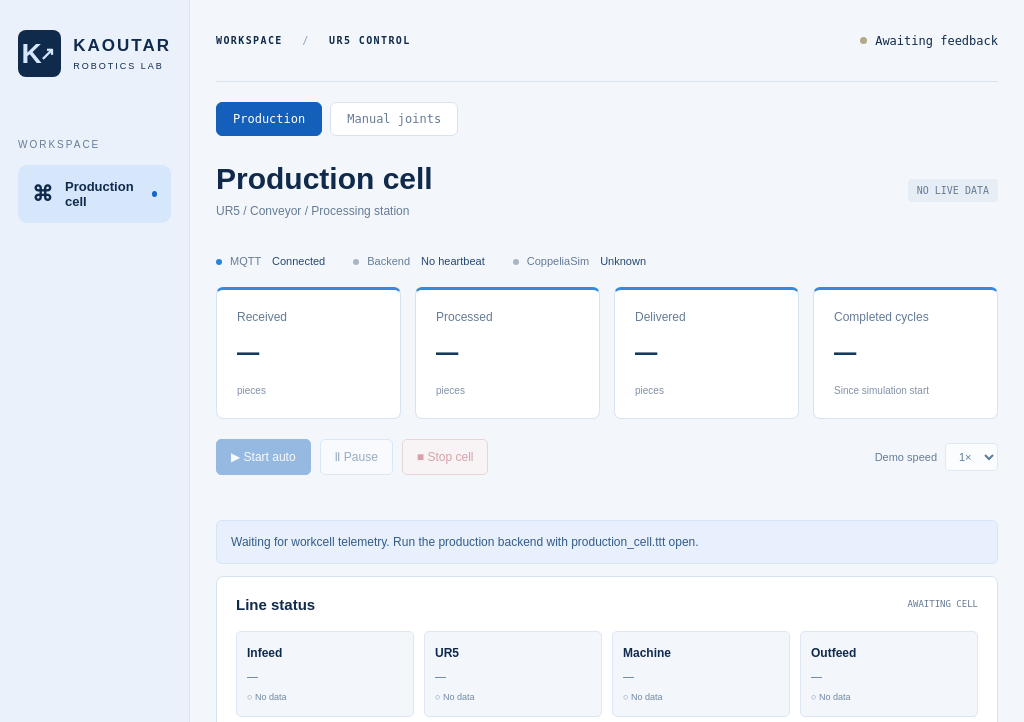
Test: stale feedback and connection loss disable movement and cleanup closes the client
Click the button "Manual joints" at (394, 119), box x1=330 y1=102 x2=458 y2=136
Wait 3500 ms
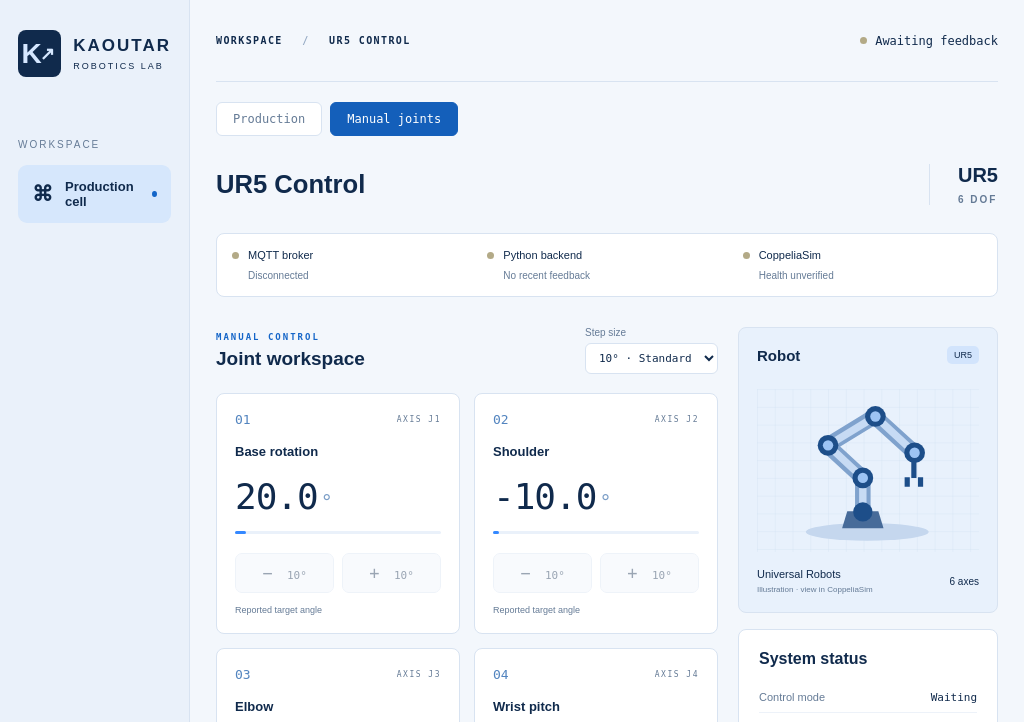
Expected: the button named "Joint 1 right" is disabled, x1=342 y1=553 x2=441 y2=593
